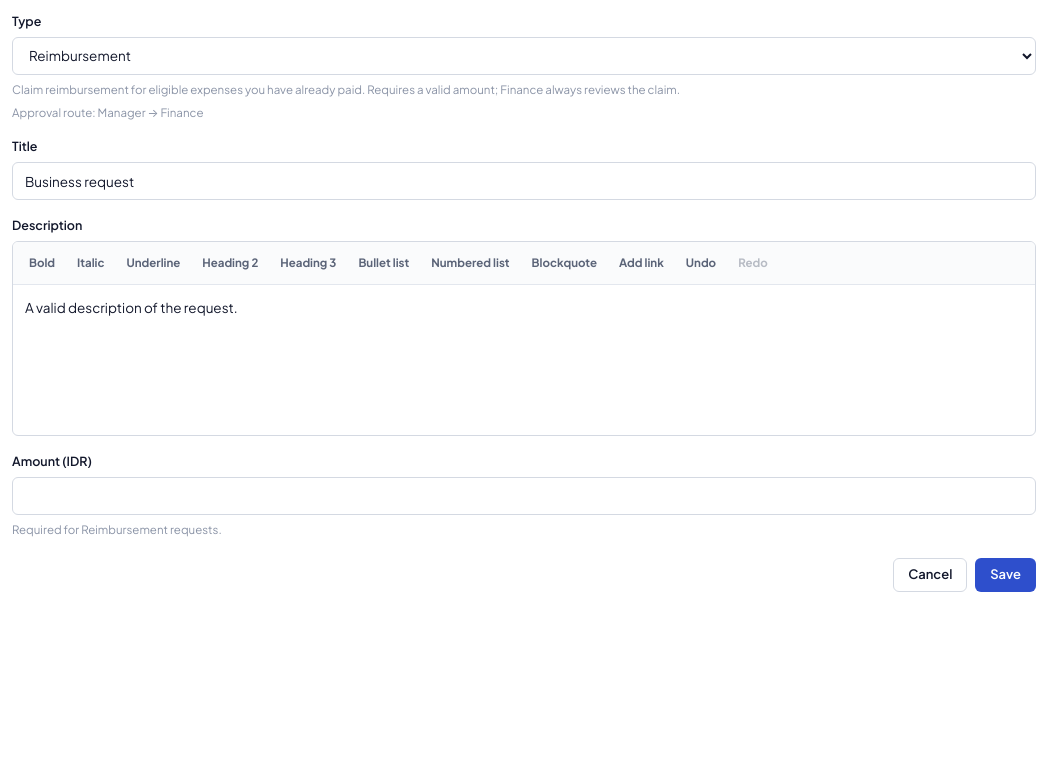
Test: type-specific amount validation (M3) › rejects the amount 0
The width and height of the screenshot is (1048, 780).
In the number field labelled "Amount (IDR)": {"x": 524, "y": 496} [12,476,1036,514], type "0"
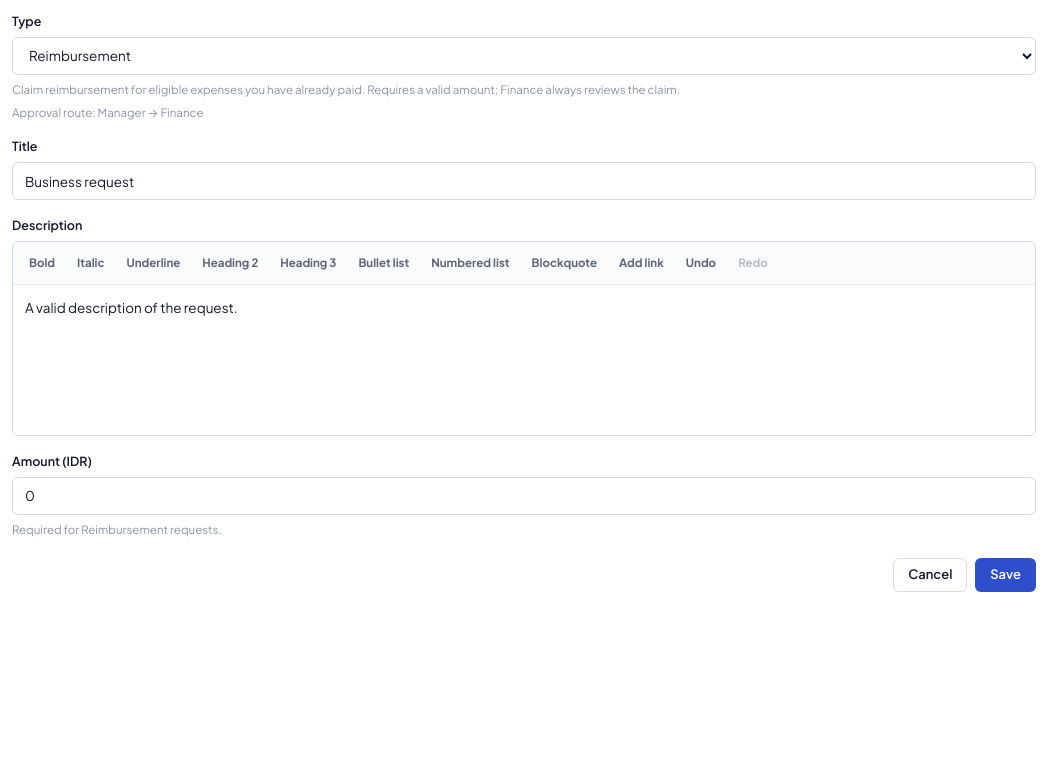
Click the button "Save": {"x": 1006, "y": 575} [975,558,1036,592]
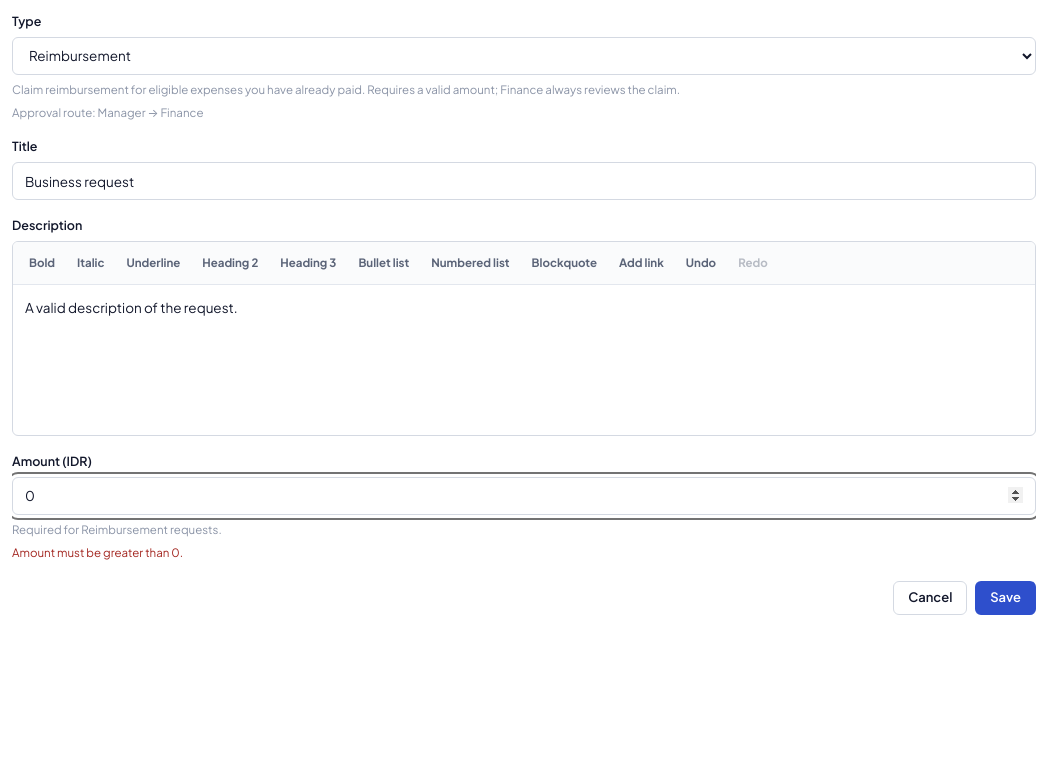
Now the text "Amount must be greater than 0." is shown, box [12,545,183,560]
